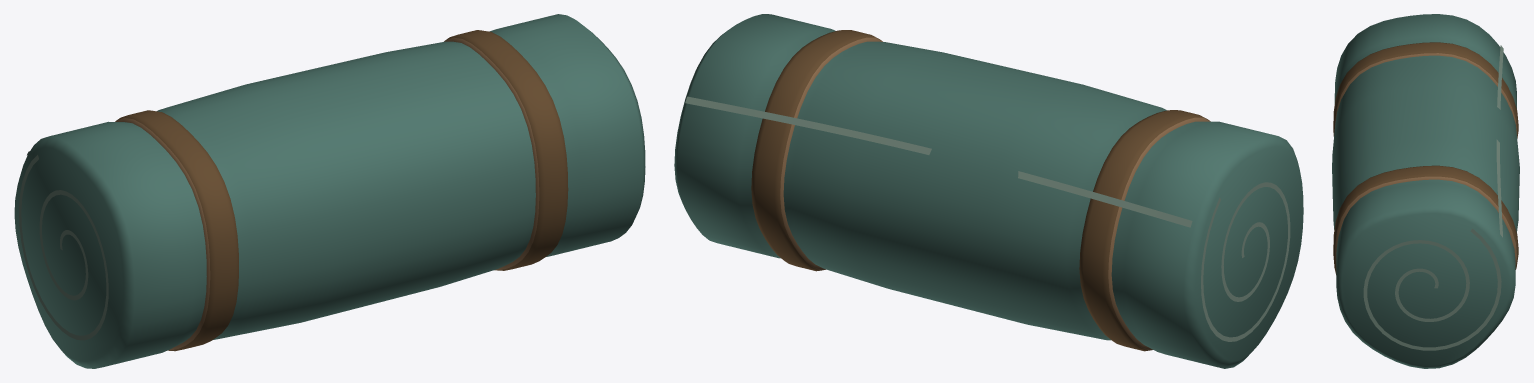
File: material_tarp.glb
3 views of the same model, side by side, from view 1: azimuth 30°, elevation 25°; view 2: azimuth 150°, elevation 25°; view 3: azimuth 270°, elevation 25° (orthographic). The views are drawn at different scales.
Parts seen in each view (by area): view 1: Tied camp tarp; view 2: Tied camp tarp; view 3: Tied camp tarp.
Boxes of the visible parts, <box> form: Tied camp tarp: <box>14,14,645,368</box>; Tied camp tarp: <box>674,14,1303,368</box>; Tied camp tarp: <box>1332,14,1519,368</box>.
Bounding box in the file's own units: 0.3272 × 0.1323 × 0.132.
